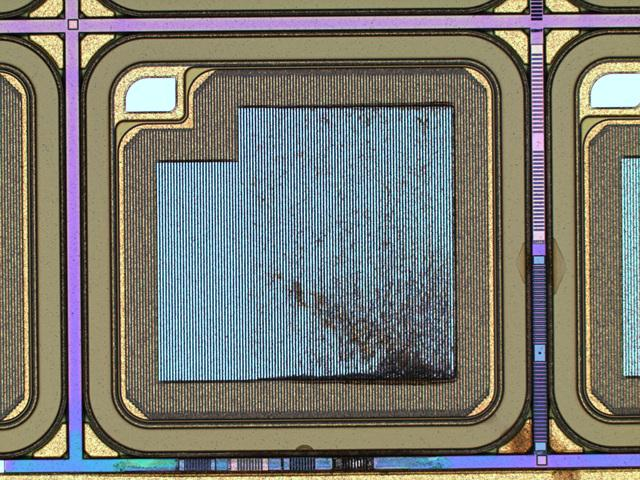SEZ BURNT: (236, 101, 461, 385)
